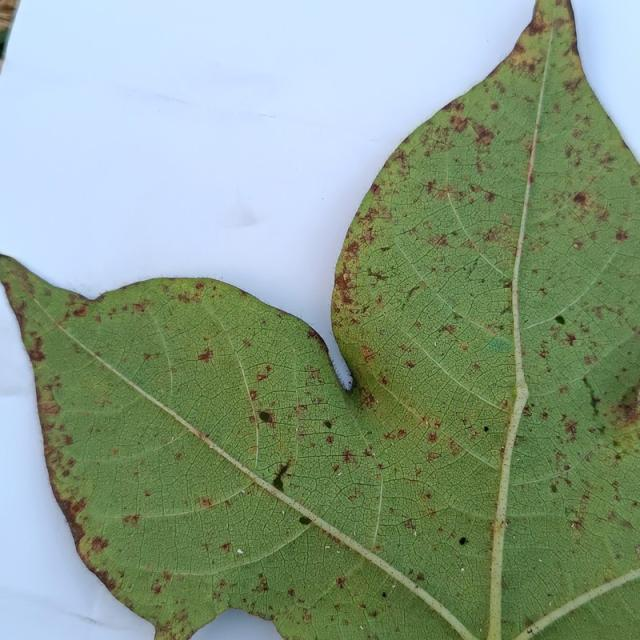Bacterial_Blight: (39, 400, 82, 459), (459, 178, 509, 205), (351, 201, 386, 234), (333, 267, 356, 311), (616, 383, 640, 423), (64, 515, 87, 548), (26, 332, 47, 363), (471, 122, 494, 147), (482, 225, 510, 244), (175, 286, 204, 304), (527, 13, 549, 36), (438, 318, 461, 339), (448, 114, 470, 135), (255, 364, 274, 383), (89, 535, 108, 554), (384, 427, 408, 442), (390, 149, 408, 169), (427, 233, 450, 248), (464, 261, 484, 278), (366, 267, 387, 282), (343, 239, 360, 257), (360, 344, 376, 363), (563, 76, 582, 92), (562, 418, 578, 436), (304, 364, 321, 380), (258, 410, 275, 426), (197, 348, 214, 363), (405, 284, 422, 299), (71, 304, 89, 318), (42, 401, 60, 415), (93, 395, 112, 408), (255, 575, 268, 592), (341, 450, 356, 464), (424, 179, 437, 195), (563, 332, 577, 346), (573, 191, 587, 205), (123, 514, 139, 526), (131, 302, 147, 314), (569, 519, 584, 531), (403, 518, 416, 531), (426, 451, 440, 462), (426, 431, 438, 443), (615, 230, 628, 241), (370, 182, 381, 195), (142, 352, 156, 362), (590, 395, 600, 409), (335, 577, 346, 588), (200, 498, 212, 508), (524, 617, 534, 629), (298, 516, 311, 525), (220, 543, 231, 553), (153, 584, 163, 595), (195, 431, 206, 441), (527, 171, 535, 184), (325, 435, 334, 445), (322, 420, 332, 429), (303, 613, 311, 624), (379, 245, 391, 252), (368, 609, 377, 618), (503, 280, 512, 289), (613, 439, 622, 448), (249, 390, 257, 400), (287, 588, 295, 598), (175, 452, 183, 461), (332, 464, 340, 473), (343, 272, 350, 282), (111, 447, 119, 455), (460, 343, 468, 351), (551, 484, 558, 493), (257, 374, 265, 381), (362, 305, 369, 313), (400, 302, 406, 311), (144, 490, 151, 497), (573, 243, 580, 248), (637, 545, 640, 555)
Cotton: (0, 0, 639, 639)
